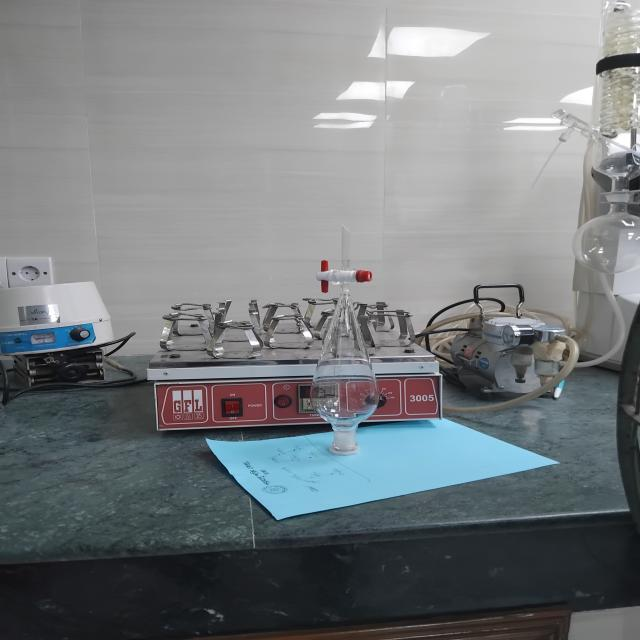Separating_Funnel: (284, 183, 425, 468)
